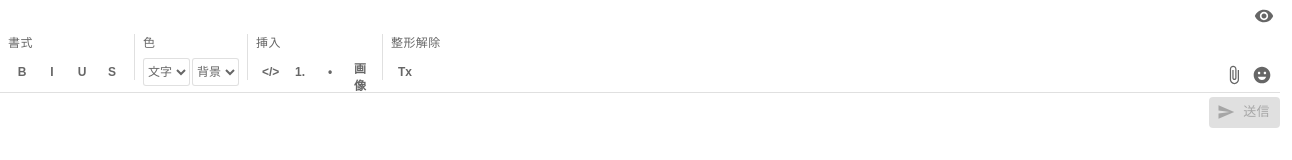
Test case: RichEditor プレビュー切替機能 (#263) › 編集モード → プレビューモードの切替 › プレビューボタンをクリックするとプレビューエリアが表示される
Click the button named "プレビュー".
click(1264, 16)  # box [1252,4,1276,28]
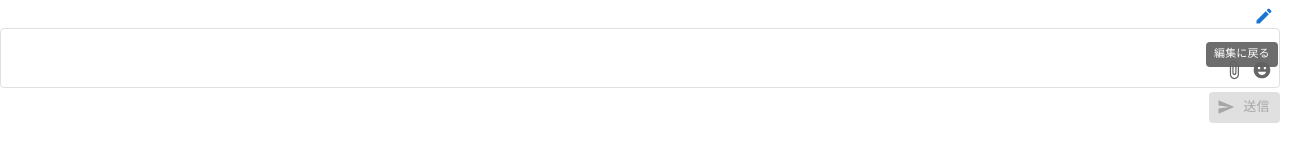
Check: the element with test id "message-preview-area" is shown, box [0,28,1280,88]
